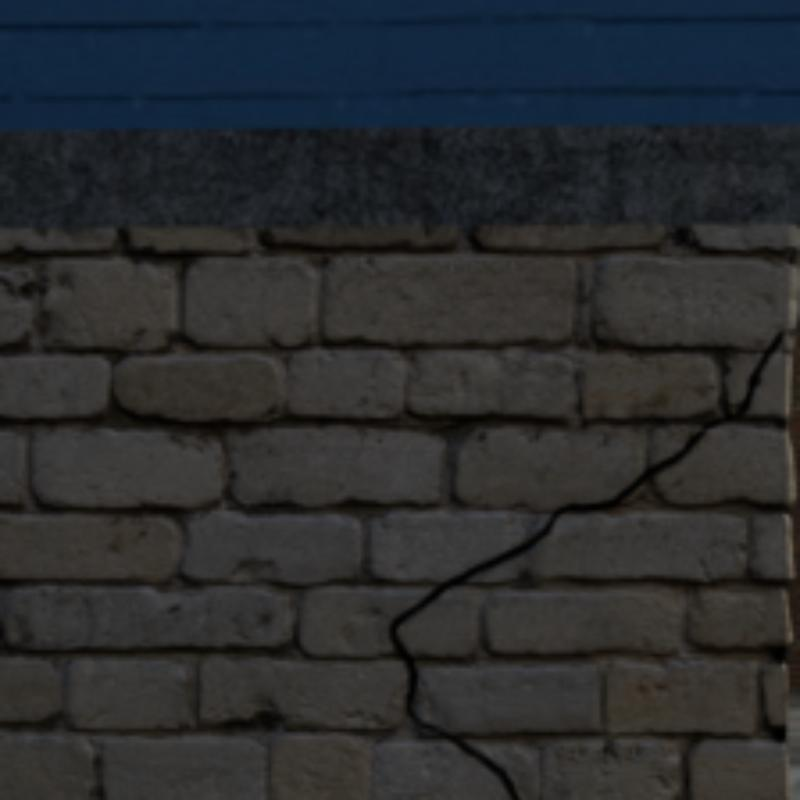pothole: (389, 329, 782, 796)
